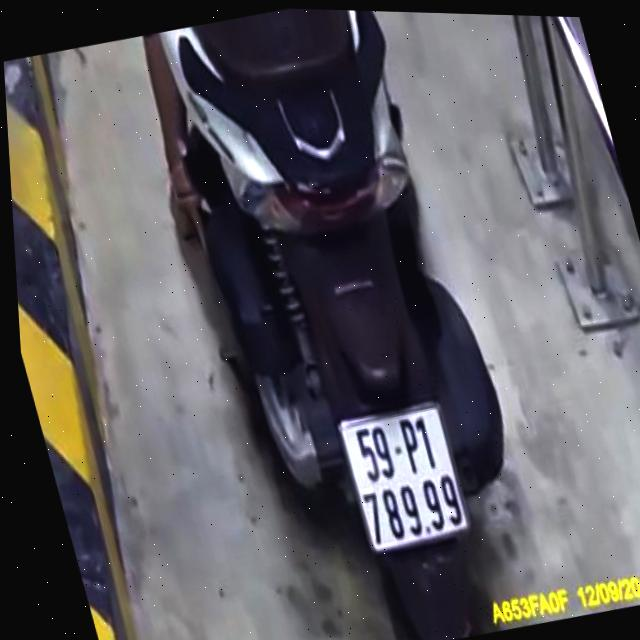motorcycle: (136, 4, 565, 640)
plate: (330, 395, 478, 563)
